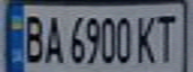0: (115, 12, 136, 65), (100, 12, 118, 65)
6: (63, 11, 84, 65)
9: (81, 12, 103, 65)
A: (42, 11, 66, 65)
B: (18, 10, 48, 64)
K: (133, 11, 160, 64)
T: (151, 9, 181, 64)
